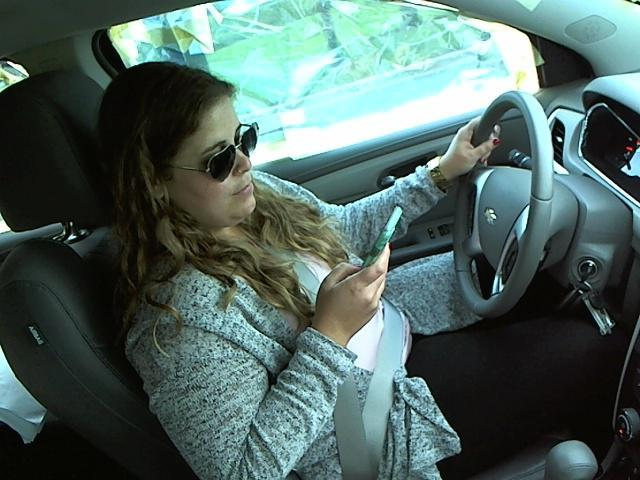PhoneUse: (355, 199, 418, 285)
